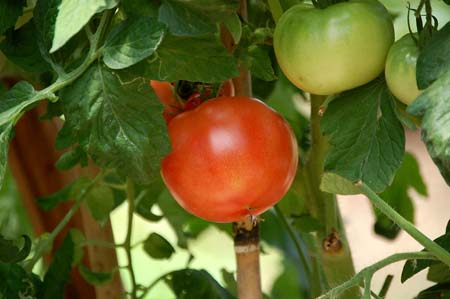tomato: (159, 95, 298, 222), (273, 1, 397, 96), (386, 28, 450, 107), (142, 78, 236, 127)
